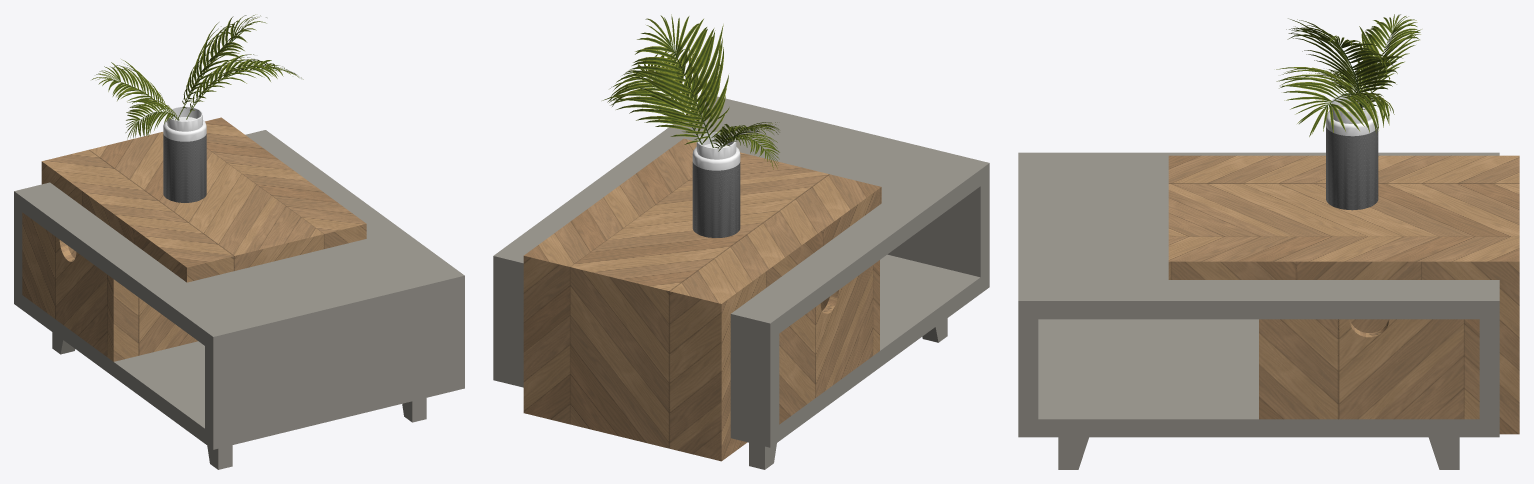
Rendered from meja.glb.
3 renders of one model, left to right at view 1: azimuth 30°, elevation 25°; view 2: azimuth 150°, elevation 25°; view 3: azimuth 270°, elevation 25°, orthographic. The views are drawn at different scales.
Parts seen in each view (by area): view 1: Material2 (×4), Material3; view 2: Material3, Material2 (×4); view 3: Material2 (×4), Material3.
Part boxes in pixels (x1=…): Material2 (×4): x1=14, y1=14, x2=464, y2=469; Material3: x1=22, y1=117, x2=366, y2=361; Material3: x1=523, y1=138, x2=881, y2=461; Material2 (×4): x1=493, y1=14, x2=989, y2=469; Material2 (×4): x1=1018, y1=14, x2=1499, y2=469; Material3: x1=1168, y1=155, x2=1519, y2=434.
Bounding box in the file's own units: 27.56 × 34.97 × 39.37.
9 materials, 4 textured.
